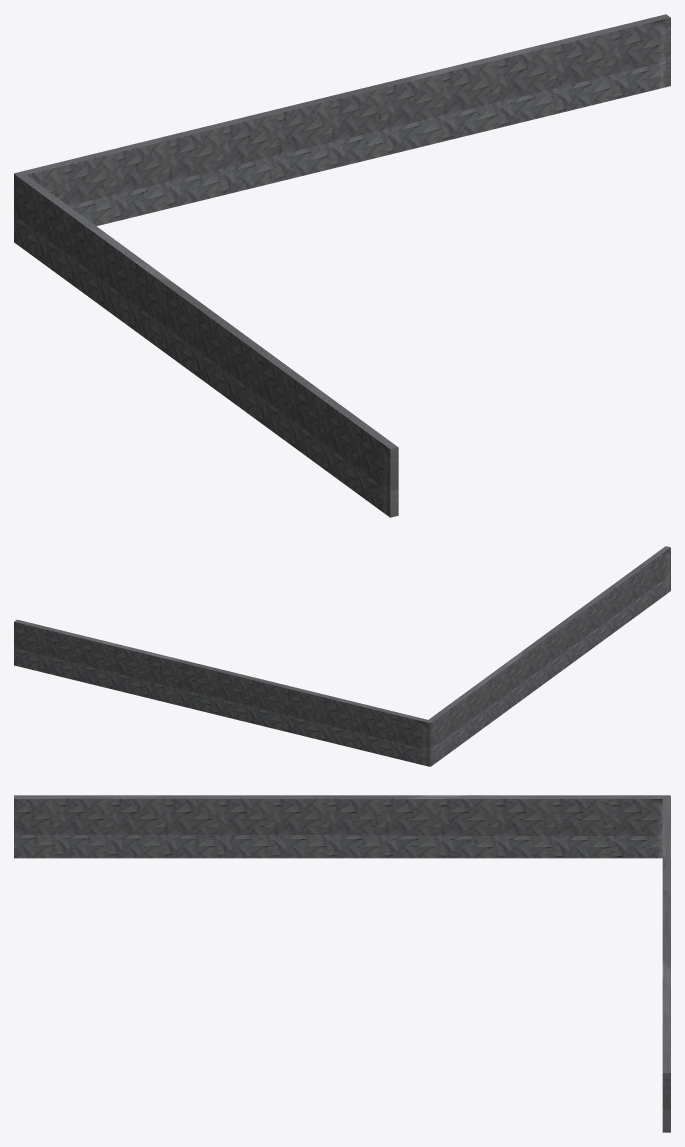
Rendered from paredes.obj.
3 renders of one model, top to bottom at view 1: azimuth 30°, elevation 25°; view 2: azimuth 150°, elevation 25°; view 3: azimuth 270°, elevation 25°, orthographic. The views are drawn at different scales.
Parts seen in each view (by area): view 1: paredes_Cube.001; view 2: paredes_Cube.001; view 3: paredes_Cube.001.
Boxes of the visible parts, x1,y1,x2,y2 form: paredes_Cube.001: (14,14,670,517); paredes_Cube.001: (14,546,670,766); paredes_Cube.001: (14,795,670,1132).
Size of the model in its own units: 19.98 by 2 by 19.98.
1 material, 1 textured.
